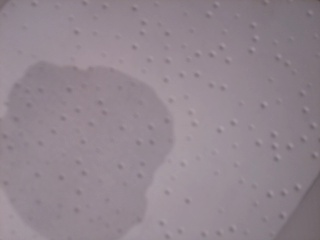Water_detected: (11, 86, 151, 228)
